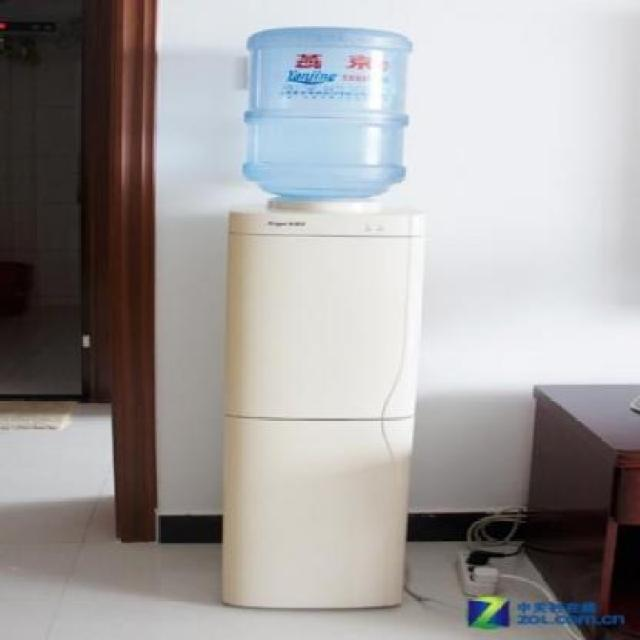cooler: (219, 22, 426, 610)
